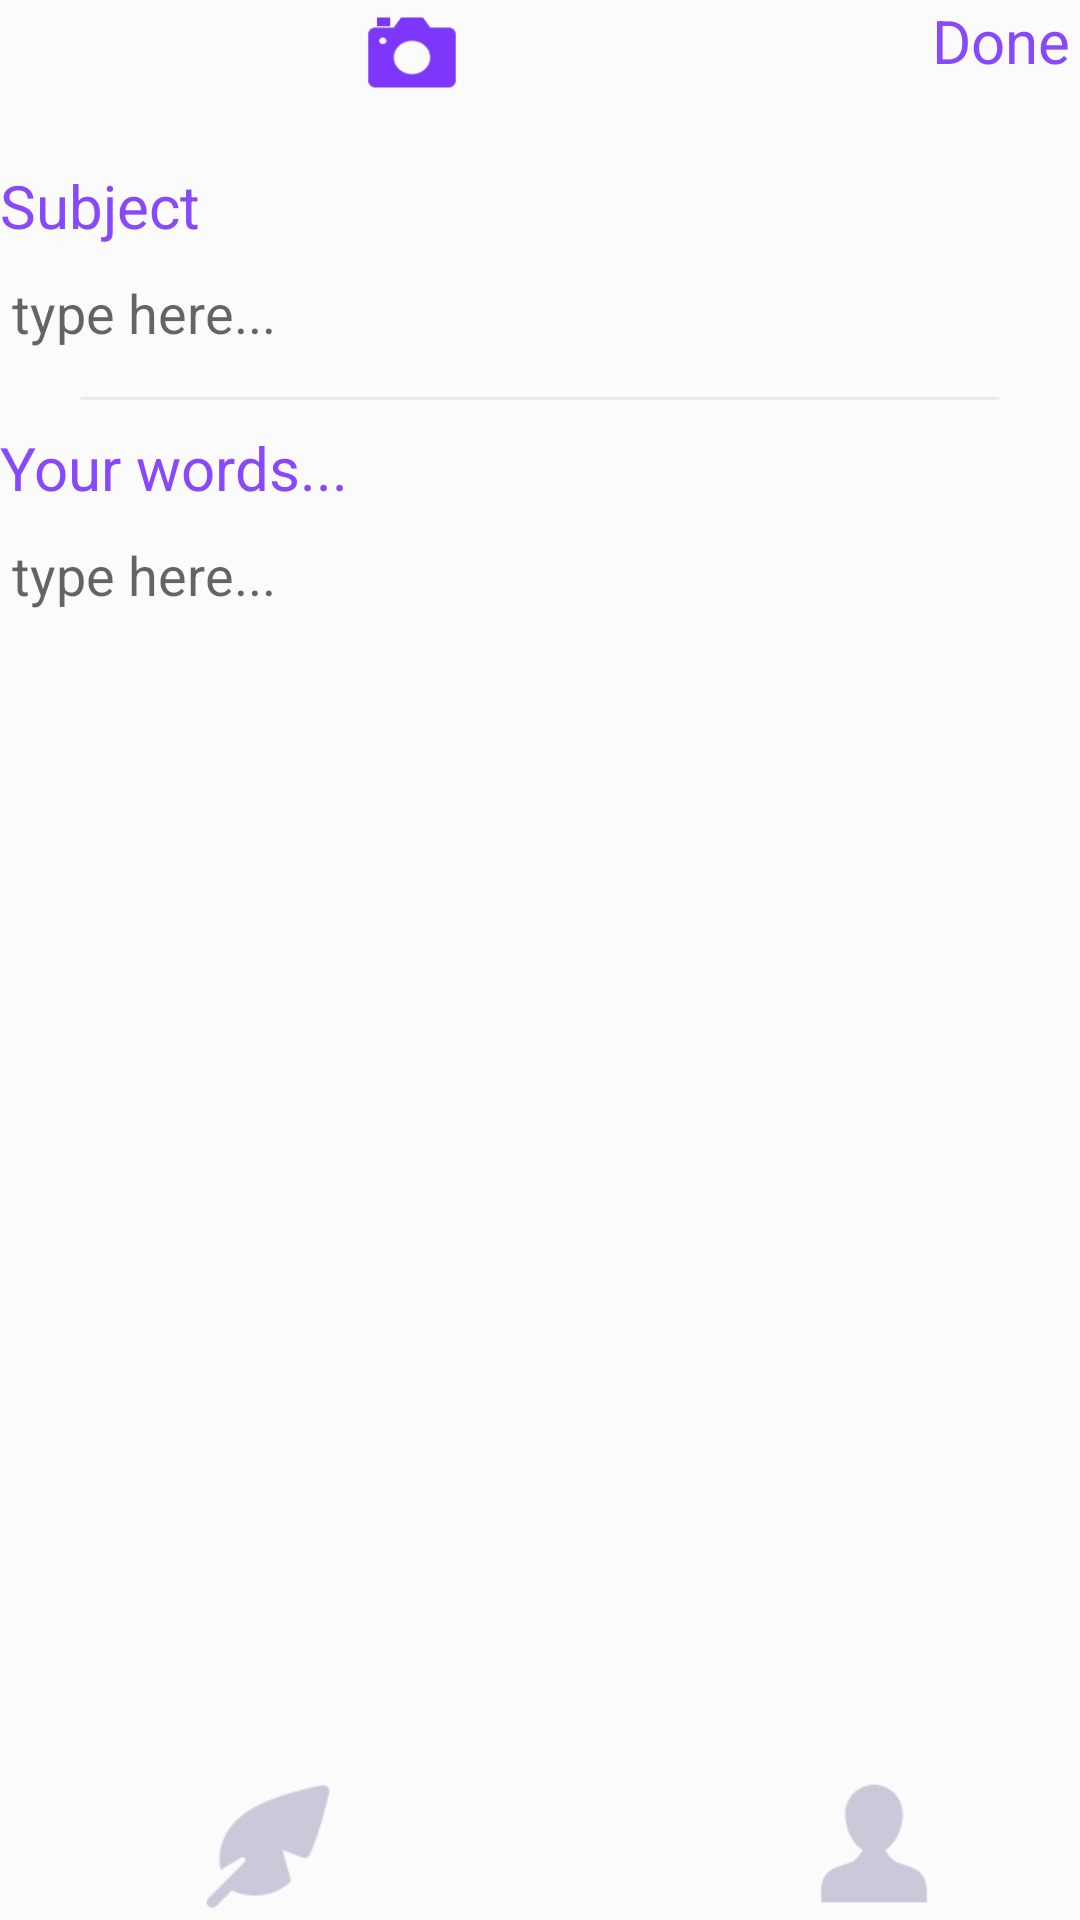

Named icons in this screenshot (1080w x 1920h) and their centers, (x=x, y=y):
camera: (x=412, y=52)
leaf: (x=268, y=1846)
